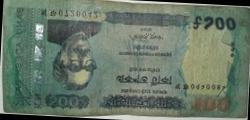100 taka: (5, 2, 246, 117)
